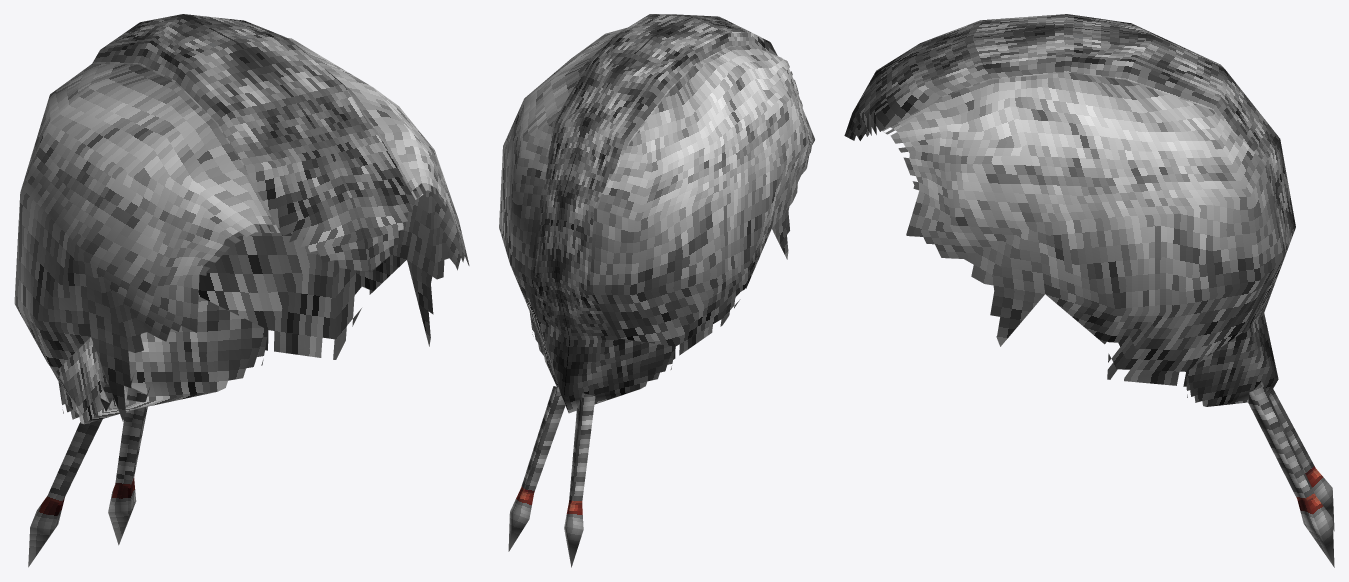
The model's file is m_hair026.obj.
3 views of the same model, side by side, from view 1: azimuth 30°, elevation 25°; view 2: azimuth 150°, elevation 25°; view 3: azimuth 270°, elevation 25° (orthographic). The views are drawn at different scales.
Parts seen in each view (by area): view 1: editpl_m-0000-1820; view 2: editpl_m-0000-1820; view 3: editpl_m-0000-1820.
Boxes of the visible parts, <box> form: editpl_m-0000-1820: <box>14,14,469,567</box>; editpl_m-0000-1820: <box>499,14,814,567</box>; editpl_m-0000-1820: <box>844,14,1334,567</box>.
Bounding box in the file's own units: 15.19 × 26.9 × 22.85.
1 material, 1 textured.
